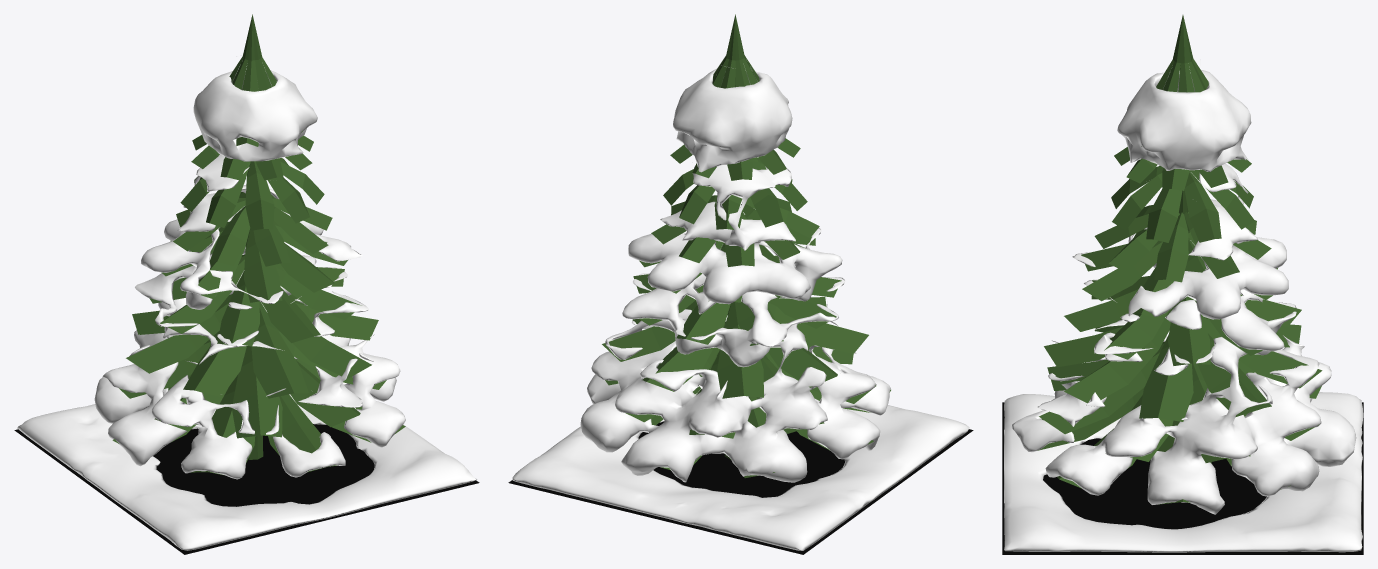
Rendered from Tree_S10P4.glb.
3 renders of one model, left to right at view 1: azimuth 30°, elevation 25°; view 2: azimuth 150°, elevation 25°; view 3: azimuth 270°, elevation 25°, orthographic. The views are drawn at different scales.
Parts seen in each view (by area): view 1: SnowMesh, Fir_Tree, Plane; view 2: SnowMesh, Fir_Tree, Plane; view 3: SnowMesh, Fir_Tree, Plane.
Boxes of the visible parts, x1,y1,x2,y2 form: SnowMesh: (17,55,476,550); Fir_Tree: (112,14,405,475); Plane: (14,424,479,554); SnowMesh: (512,66,969,550); Fir_Tree: (602,14,890,478); Plane: (508,421,973,554); SnowMesh: (1004,60,1363,552); Fir_Tree: (1037,15,1322,504); Plane: (1002,402,1363,554).
Bounding box in the file's own units: 4 × 5.73 × 4.
